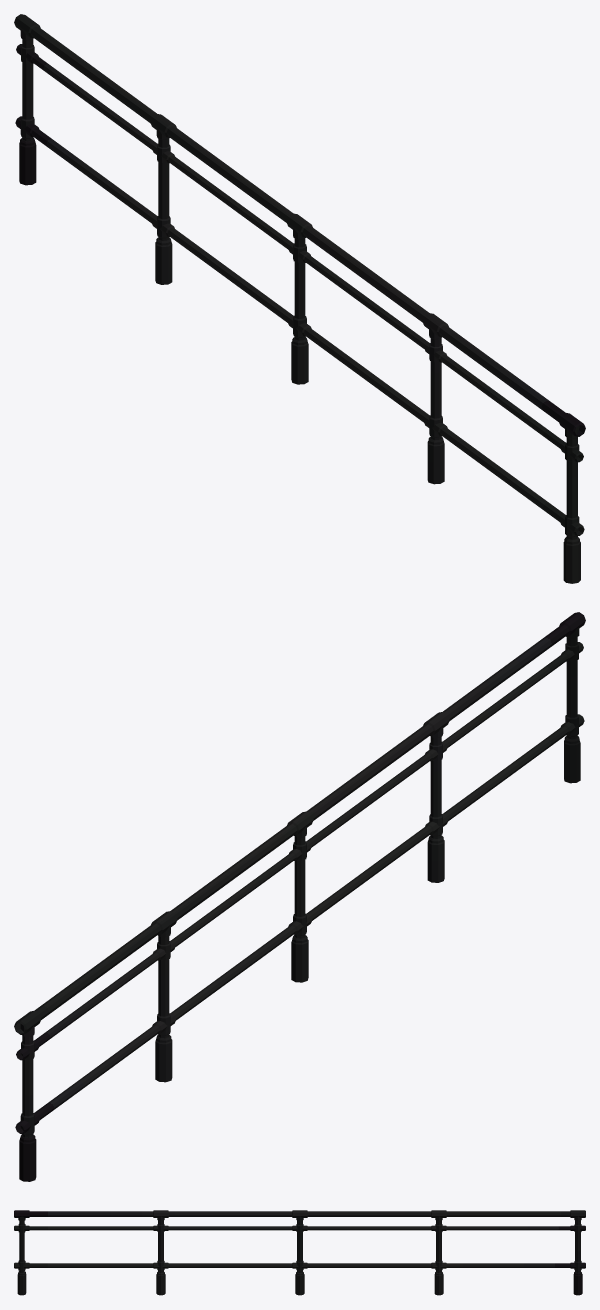
File: Bridge_Fence02.fbx
The picture shows the model from 3 angles, top to bottom: view 1: azimuth 30°, elevation 25°; view 2: azimuth 150°, elevation 25°; view 3: azimuth 270°, elevation 25°; orthographic projection. The views are drawn at different scales.
Parts seen in each view (by area): view 1: SM_City_Bridge_Fence_01c.mo; view 2: SM_City_Bridge_Fence_01c.mo; view 3: SM_City_Bridge_Fence_01c.mo.
Boxes of the visible parts, x1,y1,x2,y2 form: SM_City_Bridge_Fence_01c.mo: (14,14,585,583); SM_City_Bridge_Fence_01c.mo: (14,612,585,1181); SM_City_Bridge_Fence_01c.mo: (14,1210,585,1295).
Size of the model in its own units: 12.16 by 123 by 771.
